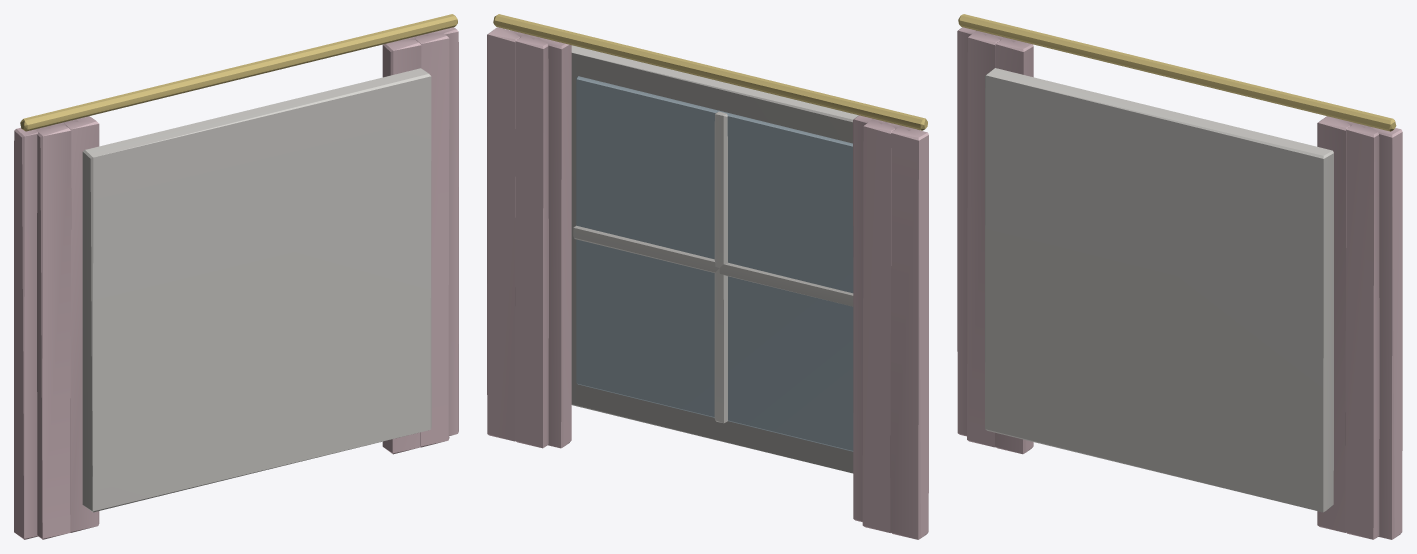
File: furn_curtain_window__pink_low.glb
3 renders of one model, left to right at view 1: azimuth 30°, elevation 25°; view 2: azimuth 150°, elevation 25°; view 3: azimuth 330°, elevation 25°, orthographic.
Size of the model in its own units: 1.41 by 1.29 by 0.1709.
